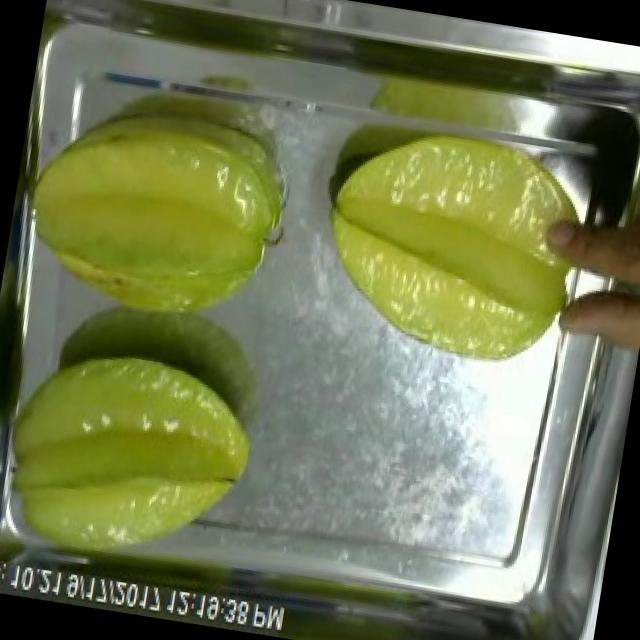fruit: (297, 106, 604, 380), (0, 82, 308, 350), (0, 325, 276, 591)
